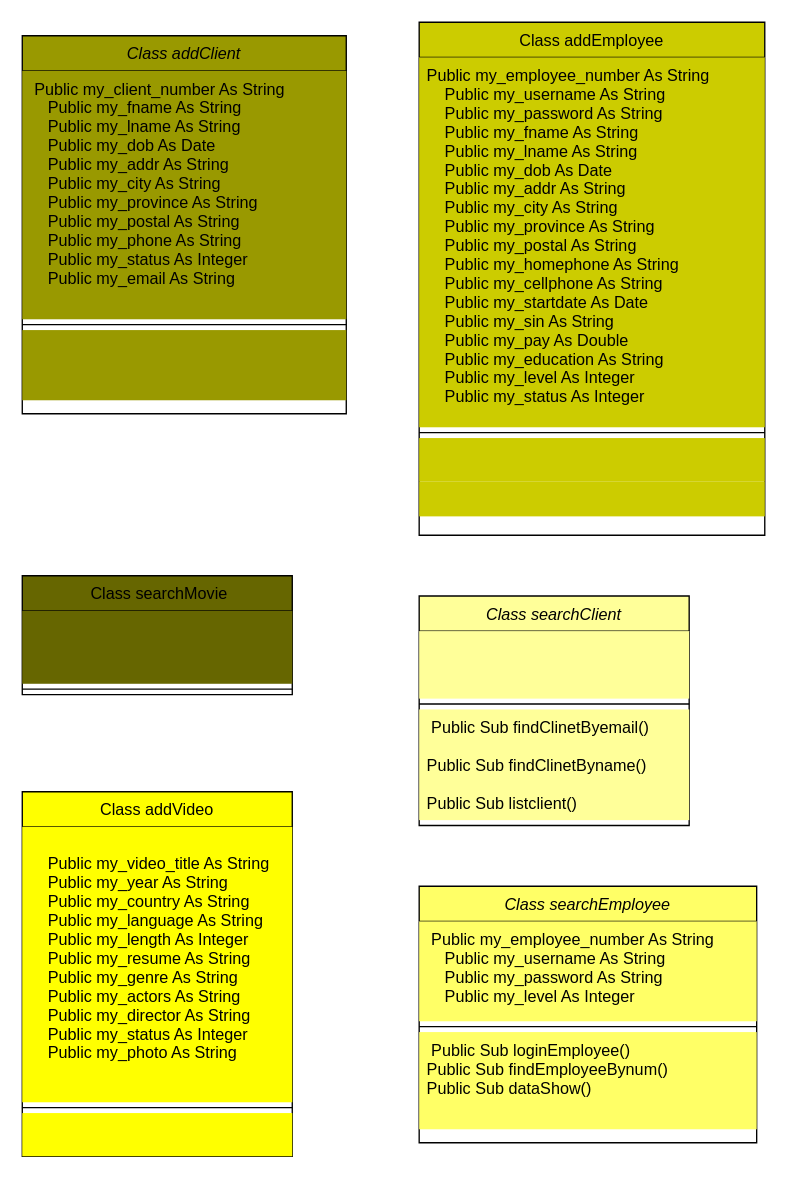
The diagram is 787 pixels wide and 1179 high, and some of its shapes have lost their labels. Each missing label, with the centre of its shape:
Public my_email As String Public my_clinetnum As String: pixel 553 664
Public Sub addClientInfo() Public Sub uppdateClientInfo(): pixel 184 364
Public Sub addEmployeeInfo(): pixel 591 459
Public Sub addVideoInfo(): pixel 157 1134
Public Sub listMovie(): pixel 157 646
Public Sub uppdateEmployeeInfo(): pixel 591 498
